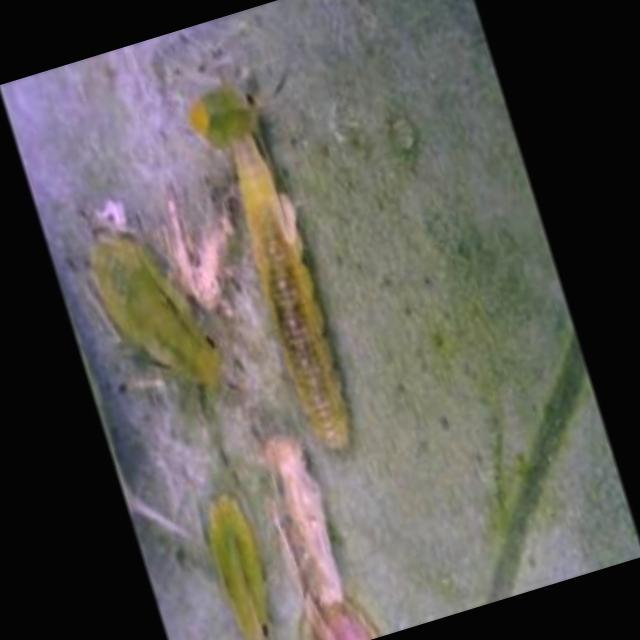Green peach aphid: (156, 52, 412, 488), (45, 178, 248, 458), (166, 475, 307, 640)
